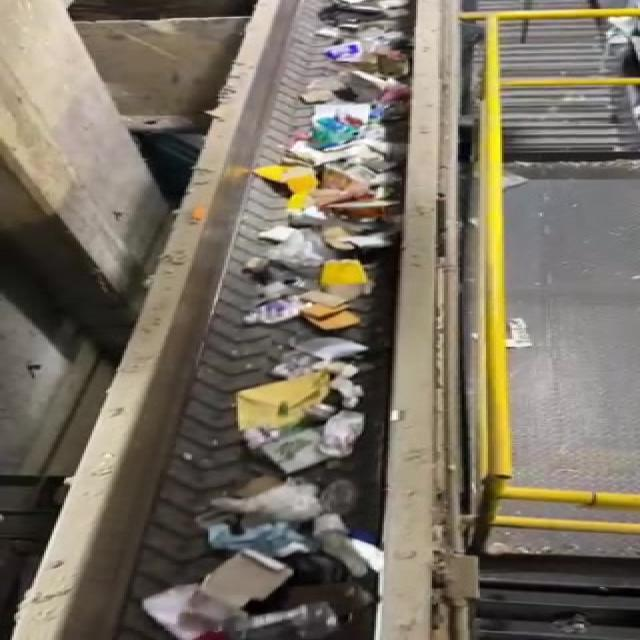metal: (2, 0, 638, 639)
